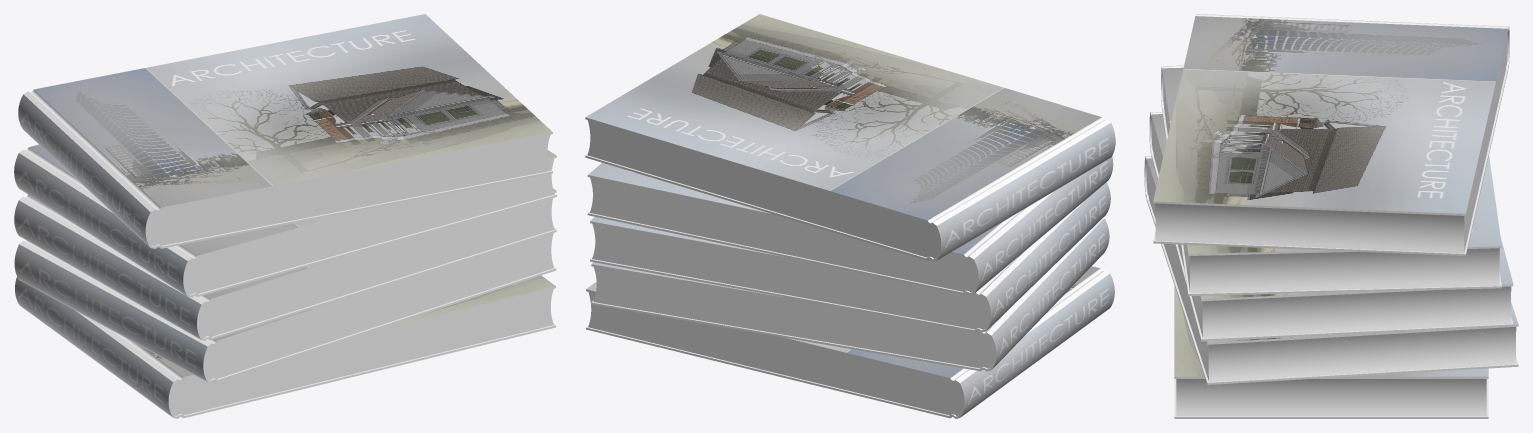
Rendered from book1 (1).obj.
3 views of the same model, side by side, from view 1: azimuth 30°, elevation 25°; view 2: azimuth 150°, elevation 25°; view 3: azimuth 270°, elevation 25° (orthographic). The views are drawn at different scales.
Parts seen in each view (by area): view 1: Mesh1 Component_2_1 Group1 Model, Mesh3 Component_2_3 Group1 Model, Mesh2 Component_2_2 Group1 Model, Mesh4 Component_2_4 Group1 Model, Mesh5 Component_2_5 Group1 Model; view 2: Mesh1 Component_2_1 Group1 Model, Mesh5 Component_2_5 Group1 Model, Mesh3 Component_2_3 Group1 Model, Mesh4 Component_2_4 Group1 Model, Mesh2 Component_2_2 Group1 Model; view 3: Mesh1 Component_2_1 Group1 Model, Mesh5 Component_2_5 Group1 Model, Mesh2 Component_2_2 Group1 Model, Mesh4 Component_2_4 Group1 Model, Mesh3 Component_2_3 Group1 Model.
Part boxes in pixels (<box>): Mesh1 Component_2_1 Group1 Model: <box>18,14,552,248</box>; Mesh3 Component_2_3 Group1 Model: <box>15,275,555,418</box>; Mesh2 Component_2_2 Group1 Model: <box>14,228,556,382</box>; Mesh4 Component_2_4 Group1 Model: <box>14,189,556,340</box>; Mesh5 Component_2_5 Group1 Model: <box>14,144,556,297</box>; Mesh1 Component_2_1 Group1 Model: <box>585,14,1115,261</box>; Mesh5 Component_2_5 Group1 Model: <box>587,156,1113,295</box>; Mesh3 Component_2_3 Group1 Model: <box>586,266,1114,418</box>; Mesh4 Component_2_4 Group1 Model: <box>590,182,1110,332</box>; Mesh2 Component_2_2 Group1 Model: <box>591,217,1109,371</box>; Mesh1 Component_2_1 Group1 Model: <box>1153,14,1509,255</box>; Mesh5 Component_2_5 Group1 Model: <box>1161,65,1501,296</box>; Mesh2 Component_2_2 Group1 Model: <box>1144,156,1518,384</box>; Mesh4 Component_2_4 Group1 Model: <box>1149,112,1513,341</box>; Mesh3 Component_2_3 Group1 Model: <box>1174,285,1488,418</box>.
Bounding box in the file's own units: 16 × 7.5 × 12.06.
